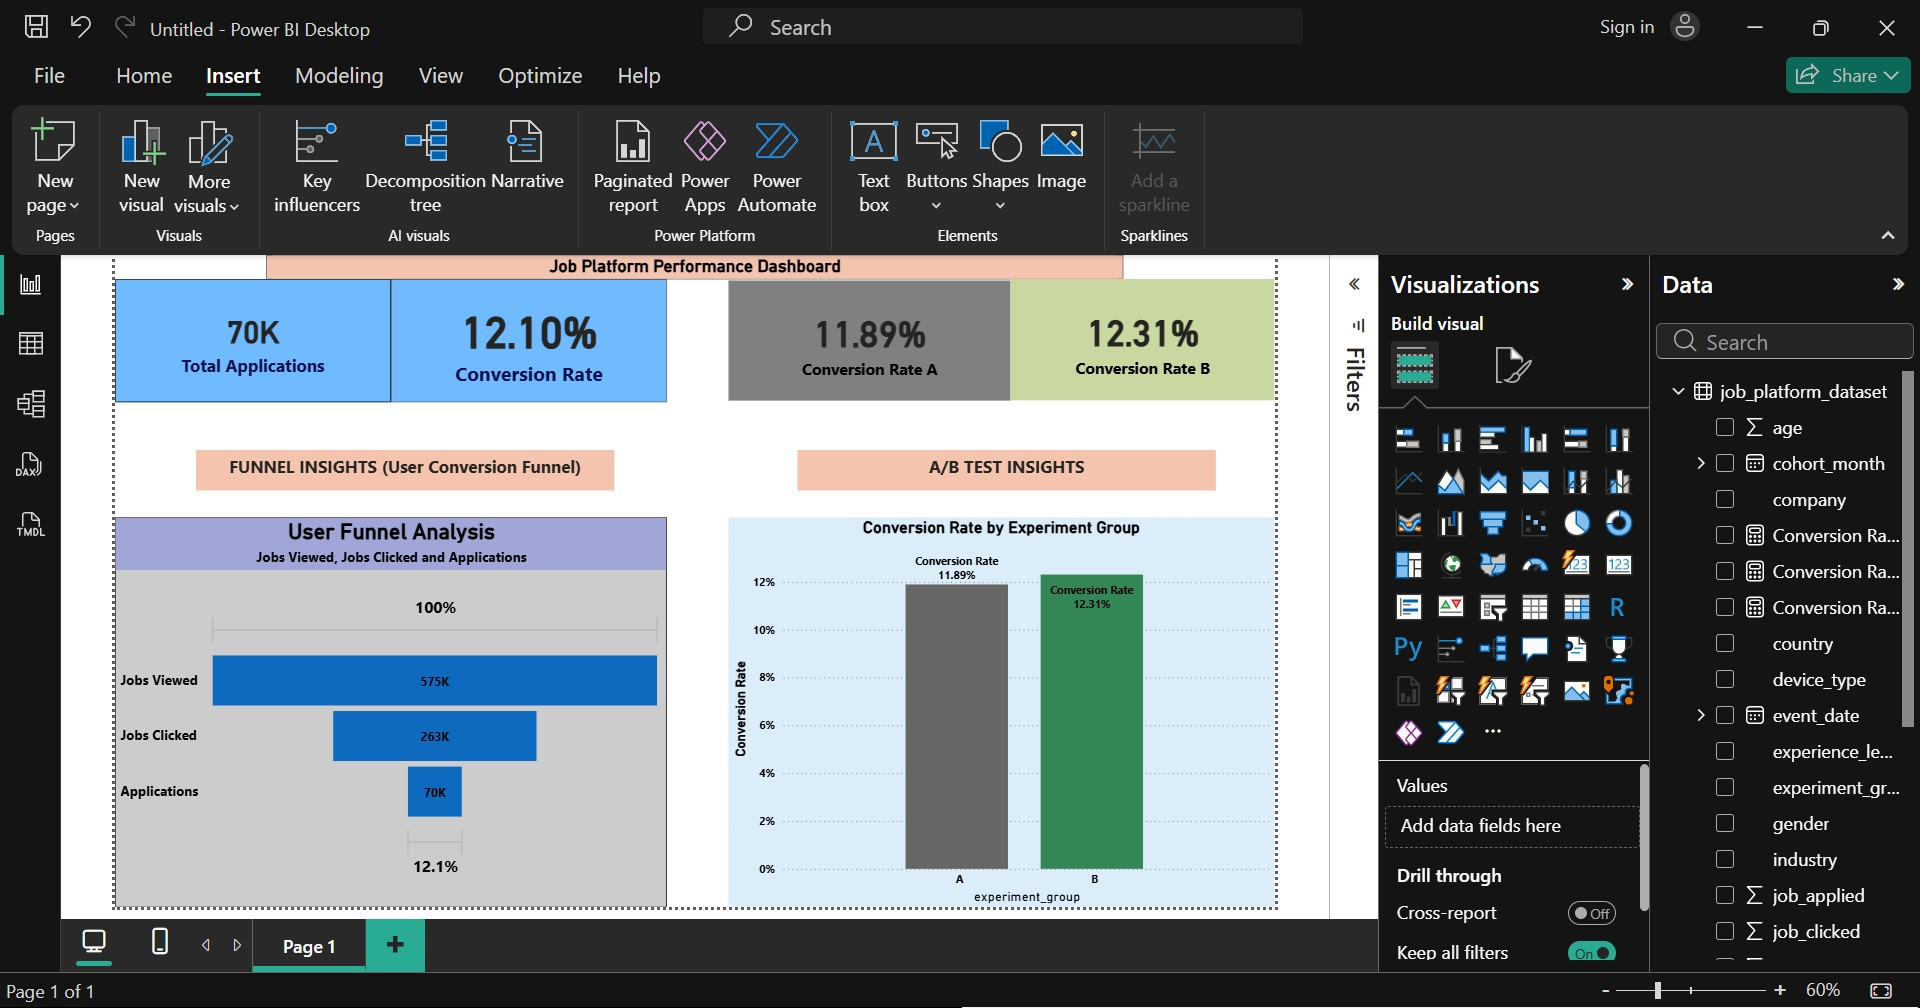

What the dashboard file says about the page in this screenshot:
{"tool":"powerbi","page":{"name":"Page 1","canvas":[1280,720],"ordinal":0},"visuals":[{"type":"card","fields":{"Values":["job_platform_dataset.Conversion Rate"]},"box":[276.6,28.2,222,135.8],"z":0},{"type":"funnel","title":"User Funnel Analysis","fields":{"Y":["Sum(job_platform_dataset.job_viewed)","Sum(job_platform_dataset.job_clicked)","Sum(job_platform_dataset.job_applied)"]},"box":[0,233.6,594.7,367.7],"z":1000},{"type":"textbox","title":"Job Platform Performance Dashboard","box":[167.3,0,945.9,26.5],"z":2000},{"type":"card","fields":{"Values":["job_platform_dataset.Total Applications"]},"box":[0,28.2,218.7,135.8],"z":3000},{"type":"card","fields":{"Values":["job_platform_dataset.Conversion Rate A"]},"box":[753.7,28.2,235.2,132.5],"z":4000},{"type":"card","fields":{"Values":["job_platform_dataset.Conversion Rate B"]},"box":[1053.5,26.5,226.9,134.2],"z":4001},{"type":"clusteredColumnChart","title":"Conversion Rate by Experiment Group","fields":{"Category":["job_platform_dataset.experiment_group"],"Y":["job_platform_dataset.Conversion Rate"]},"box":[662.6,233.6,617.9,367.7],"z":4002},{"type":"textbox","box":[16.6,175.6,429,39.8],"z":4003},{"type":"textbox","box":[858.1,175.6,351.2,39.8],"z":4004},{"type":"textbox","box":[0,614.6,594.7,106],"z":4006},{"type":"textbox","box":[662.6,614.6,617.9,106],"z":4007}]}

Visuals, with their boxes on the page's 1280x720 design canvas (x1, y1, x2, y2). These are canvas units, not pixel positions in the 1920x1008 screenshot, which may show the page scaled, cropped or inside an application window:
card - job_platform_dataset.Conversion Rate: select_region(277, 28, 499, 164)
"User Funnel Analysis" funnel: select_region(0, 234, 595, 601)
"Job Platform Performance Dashboard" textbox: select_region(167, 0, 1113, 26)
card - job_platform_dataset.Total Applications: select_region(0, 28, 219, 164)
card - job_platform_dataset.Conversion Rate A: select_region(754, 28, 989, 161)
card - job_platform_dataset.Conversion Rate B: select_region(1054, 26, 1280, 161)
"Conversion Rate by Experiment Group" clusteredColumnChart: select_region(663, 234, 1280, 601)
textbox: select_region(17, 176, 446, 215)
textbox: select_region(858, 176, 1209, 215)
textbox: select_region(0, 615, 595, 721)
textbox: select_region(663, 615, 1280, 721)
